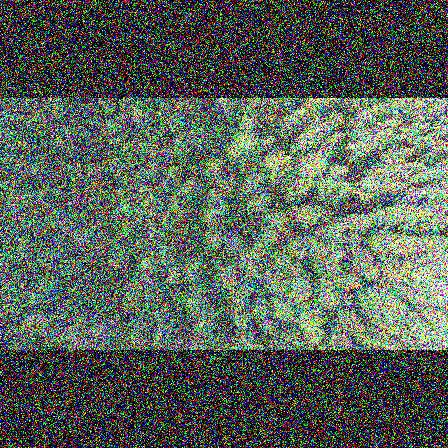Sick: (225, 233, 246, 254), (170, 133, 188, 155), (1, 197, 21, 215), (145, 239, 163, 259), (167, 115, 189, 131), (108, 210, 125, 228), (160, 259, 177, 276), (71, 233, 91, 246)
